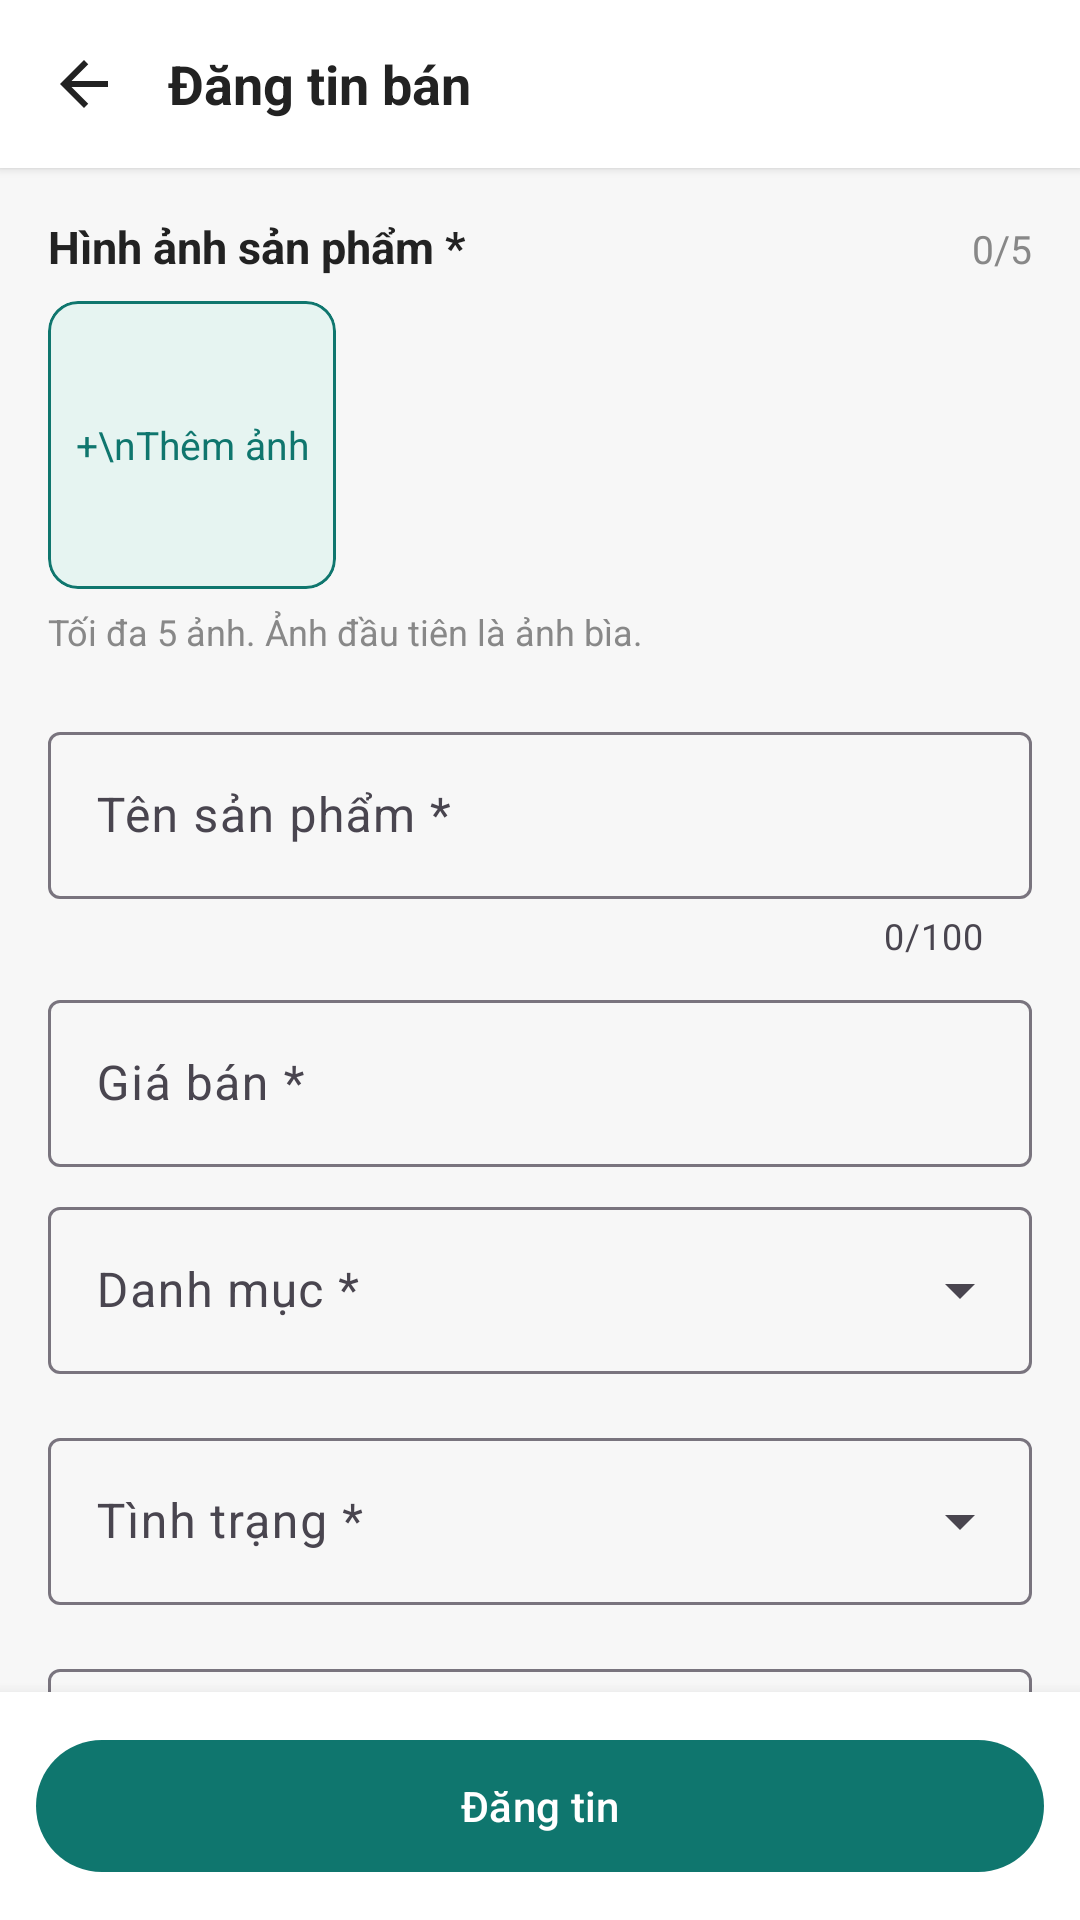

Screen size 1080x1920. Icon name, then its box in pixels as {"x1": x1, "y1": y1, "x2": x2, "y2": y2}:
Quay lại: {"x1": 60, "y1": 60, "x2": 108, "y2": 108}
